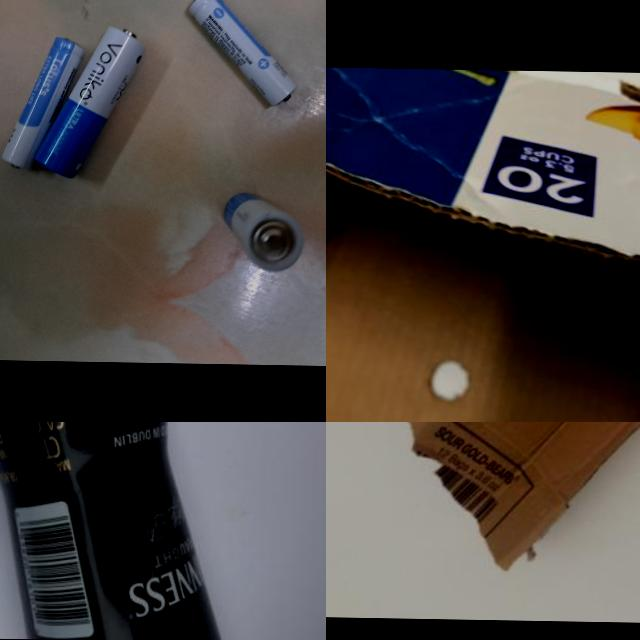bateria: (36, 25, 148, 180), (187, 0, 298, 106), (0, 36, 87, 168), (221, 194, 303, 272)
garrafa de vidro: (0, 422, 230, 640)
papelão: (326, 63, 640, 422), (375, 422, 640, 572)
